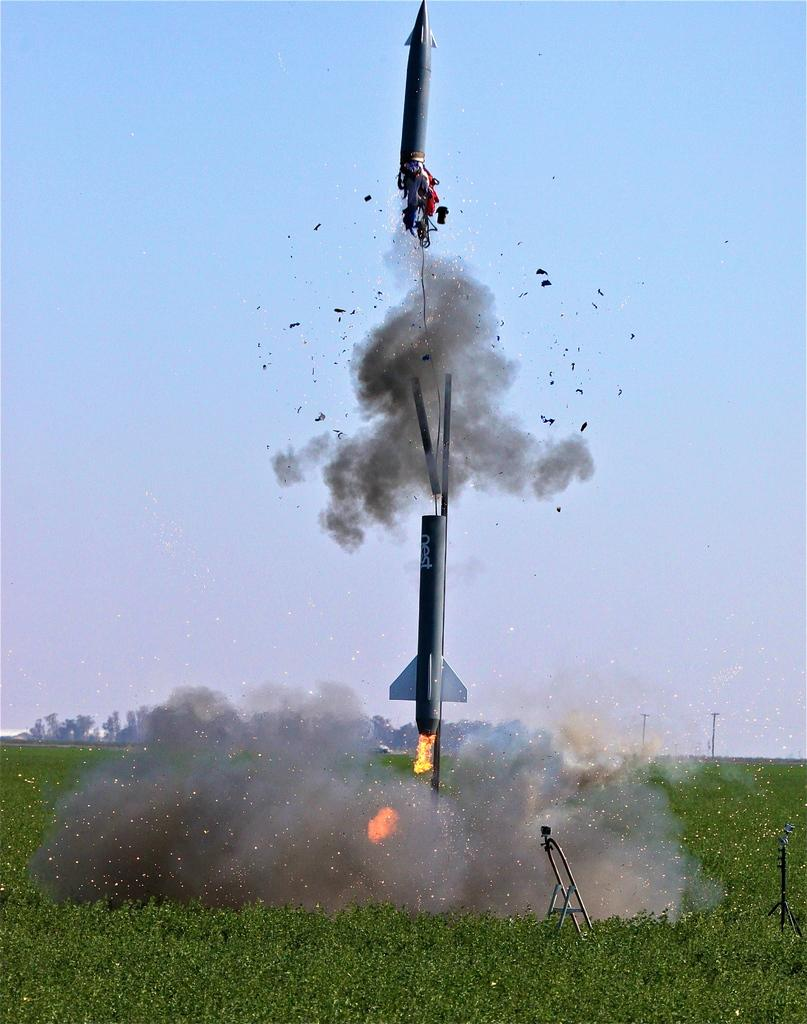Missile: (375, 4, 471, 264)
